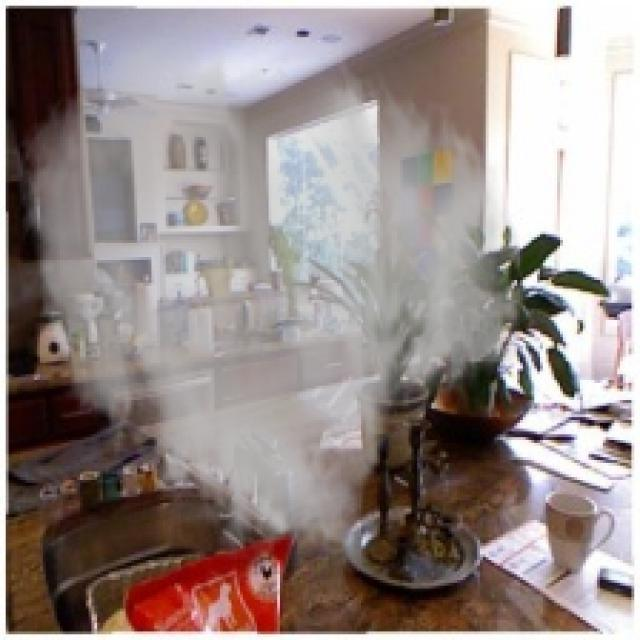Smoke: (14, 32, 529, 574)
